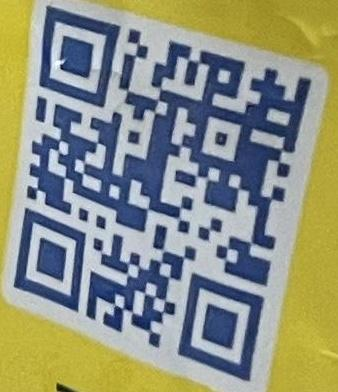qrcode: (14, 5, 311, 382)
